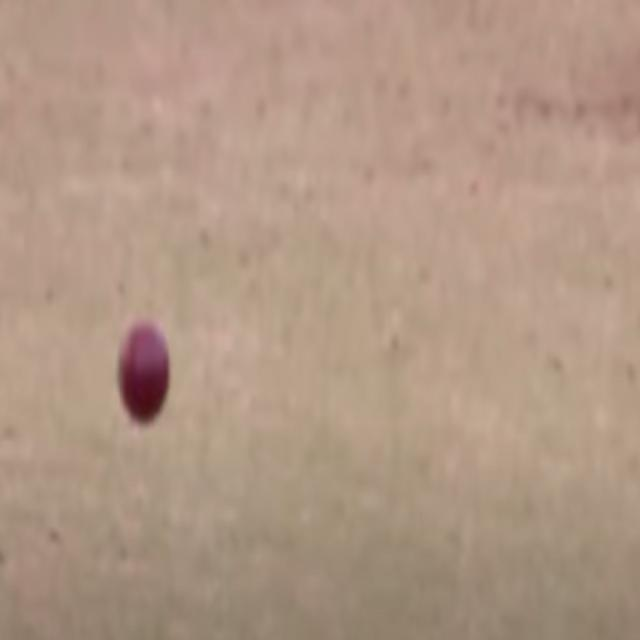ball: (106, 303, 180, 434)
